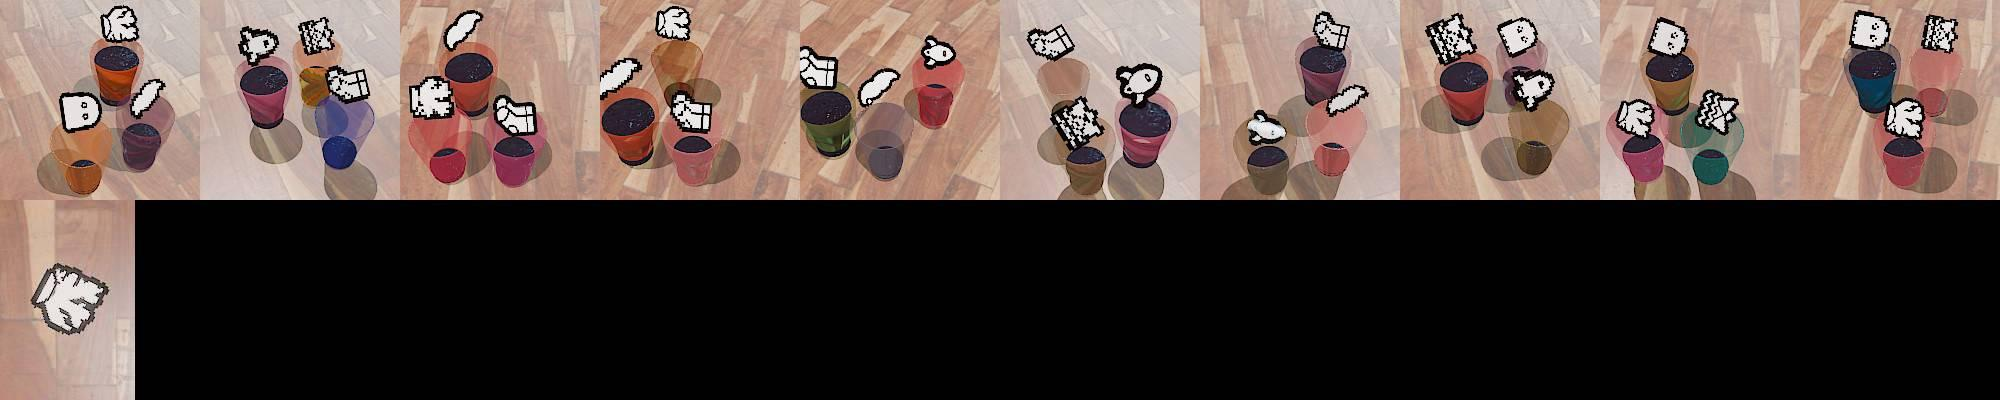icon: (29, 261, 110, 335), (1048, 94, 1105, 149), (1425, 13, 1478, 64), (1114, 61, 1163, 106), (1694, 89, 1740, 134), (1509, 68, 1556, 111), (408, 75, 455, 118), (492, 94, 540, 136), (1026, 20, 1074, 61), (1495, 17, 1540, 60), (59, 89, 102, 134), (797, 45, 841, 89), (667, 90, 713, 132), (597, 56, 644, 97), (855, 68, 901, 107), (1883, 97, 1926, 138), (1848, 10, 1892, 51), (325, 65, 371, 103), (1616, 99, 1657, 141), (1648, 17, 1690, 57), (237, 25, 279, 66), (443, 10, 483, 52), (129, 76, 167, 120), (297, 17, 337, 57), (1312, 10, 1351, 52), (1920, 14, 1959, 54), (99, 5, 139, 42), (1325, 83, 1369, 116), (654, 5, 693, 41), (921, 34, 958, 68), (1247, 110, 1286, 138)
